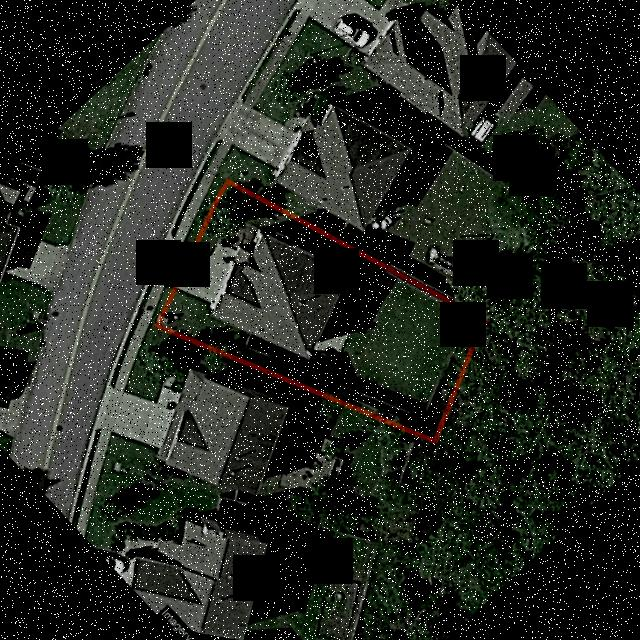Driveway: (178, 242, 236, 303)
House: (208, 226, 349, 359)
Other: (316, 316, 351, 359)
